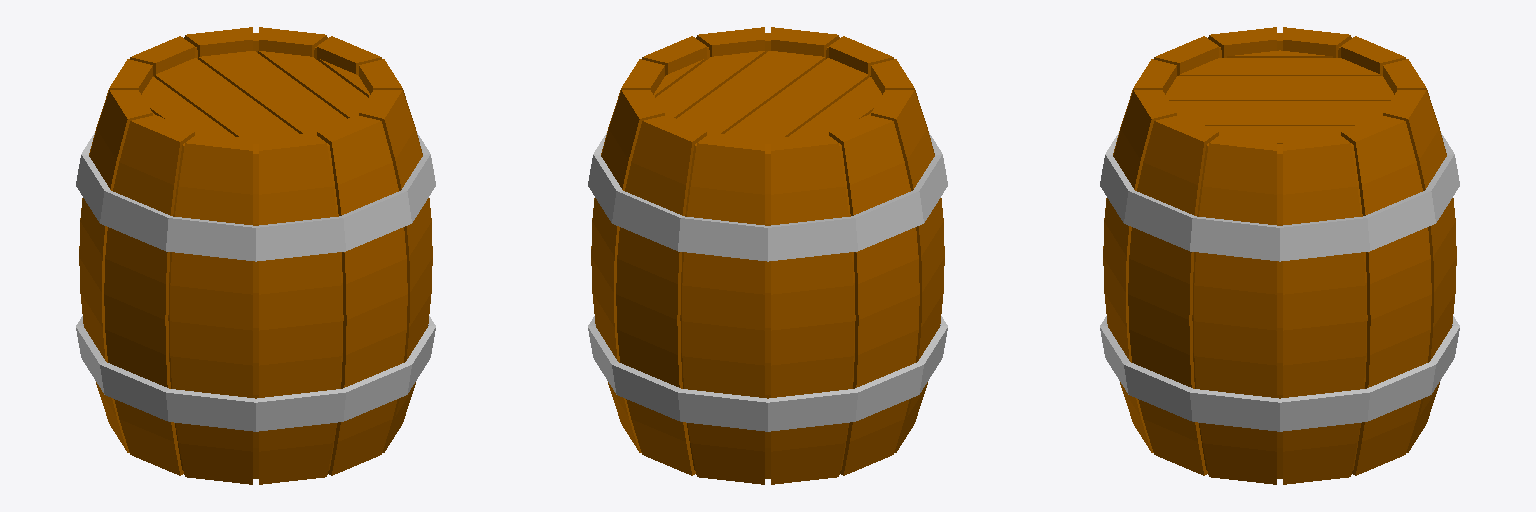
3 renders of one model, left to right at view 1: azimuth 30°, elevation 25°; view 2: azimuth 150°, elevation 25°; view 3: azimuth 270°, elevation 25°, orthographic.
Parts seen in each view (by area): view 1: Barrel; view 2: Barrel; view 3: Barrel.
Part boxes in pixels (x1,y1,x2,y2): Barrel: (76,27,435,484); Barrel: (588,27,947,484); Barrel: (1100,27,1459,484).
Bounding box in the file's own units: 0.4278 × 0.437 × 0.4278.
Materials: 2 (1 with a texture image).